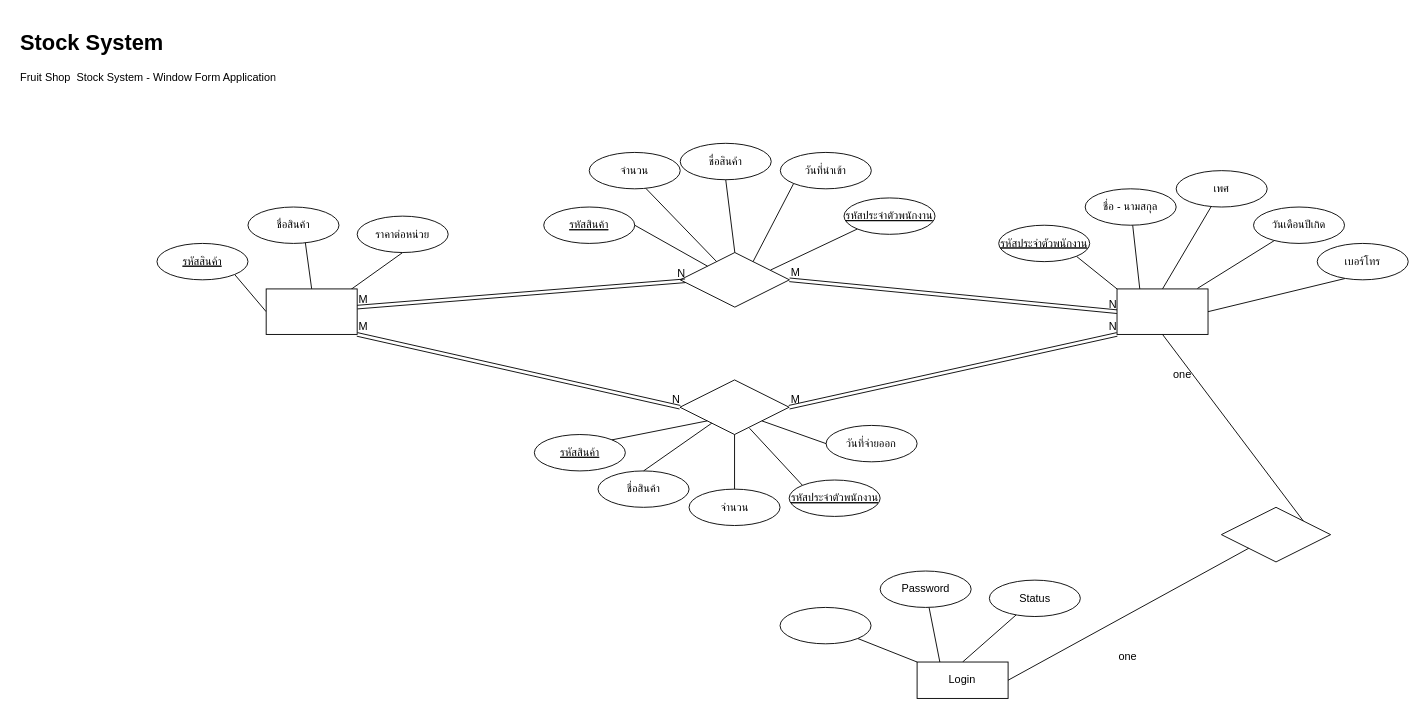
This 1424x714 diagram has some shape labels left out. The shapes that lost their labels are listed below. From the top down, each one's centre as x and y in pixels, then its label:
At (734,279): "import".
At (311,311): "สินค้า".
At (1162,311): "พนักงาน".
At (734,407): "export".
At (1275,534): "เข้าถึง".
At (825,625): "Username".
